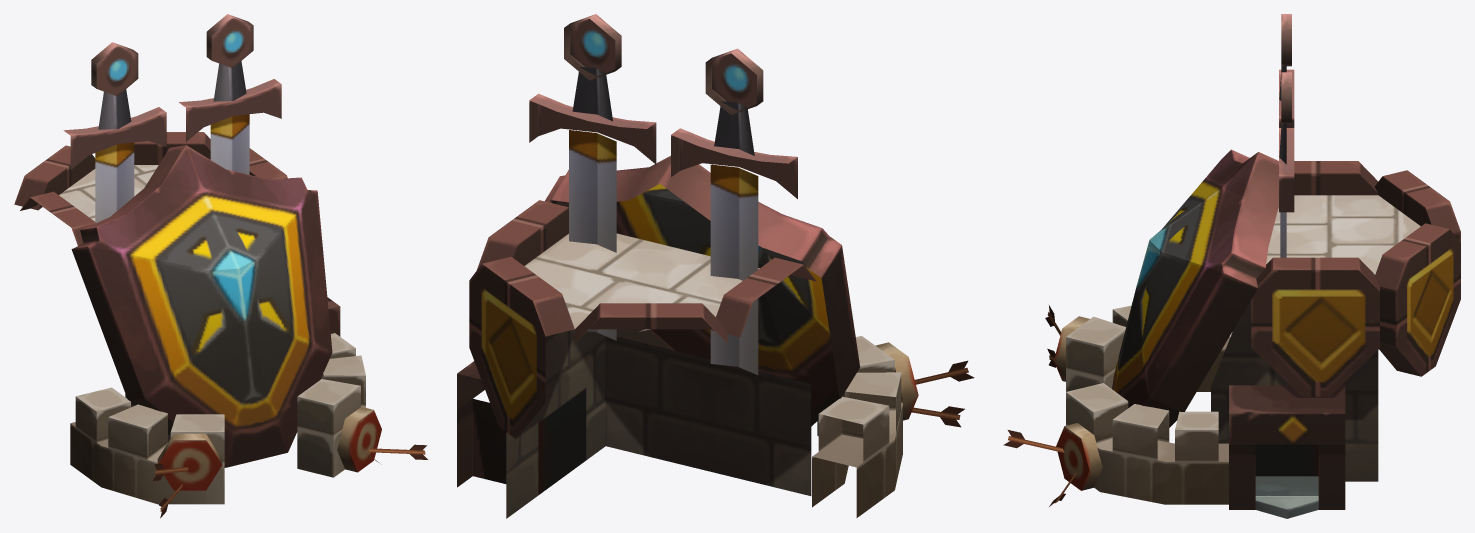
The model's file is B_Barracks05.fbx.
3 views of the same model, side by side, from view 1: azimuth 30°, elevation 25°; view 2: azimuth 150°, elevation 25°; view 3: azimuth 270°, elevation 25° (orthographic). The views are drawn at different scales.
Parts seen in each view (by area): view 1: B_Barracks05_01, B_Barracks05_02, B_Barracks05_03; view 2: B_Barracks05_01, B_Barracks05_02, B_Barracks05_03; view 3: B_Barracks05_01, B_Barracks05_03, B_Barracks05_02.
Boxes of the visible parts, left/top/right/bottom form: B_Barracks05_01: left=14, top=132, right=428, bottom=518; B_Barracks05_02: left=63, top=42, right=166, bottom=222; B_Barracks05_03: left=179, top=14, right=281, bottom=174; B_Barracks05_01: left=457, top=155, right=974, bottom=518; B_Barracks05_02: left=671, top=48, right=797, bottom=374; B_Barracks05_03: left=529, top=14, right=656, bottom=340; B_Barracks05_01: left=1003, top=149, right=1460, bottom=518; B_Barracks05_03: left=1279, top=72, right=1294, bottom=257; B_Barracks05_02: left=1279, top=14, right=1294, bottom=127.
Size of the model in its own units: 4.18 by 5.2 by 5.44.
Materials: 1 (1 with a texture image).
